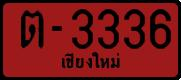letters: (18, 9, 45, 50), (122, 8, 147, 50), (148, 8, 173, 50), (70, 8, 94, 50), (96, 8, 120, 50)
province: (60, 51, 122, 70)
